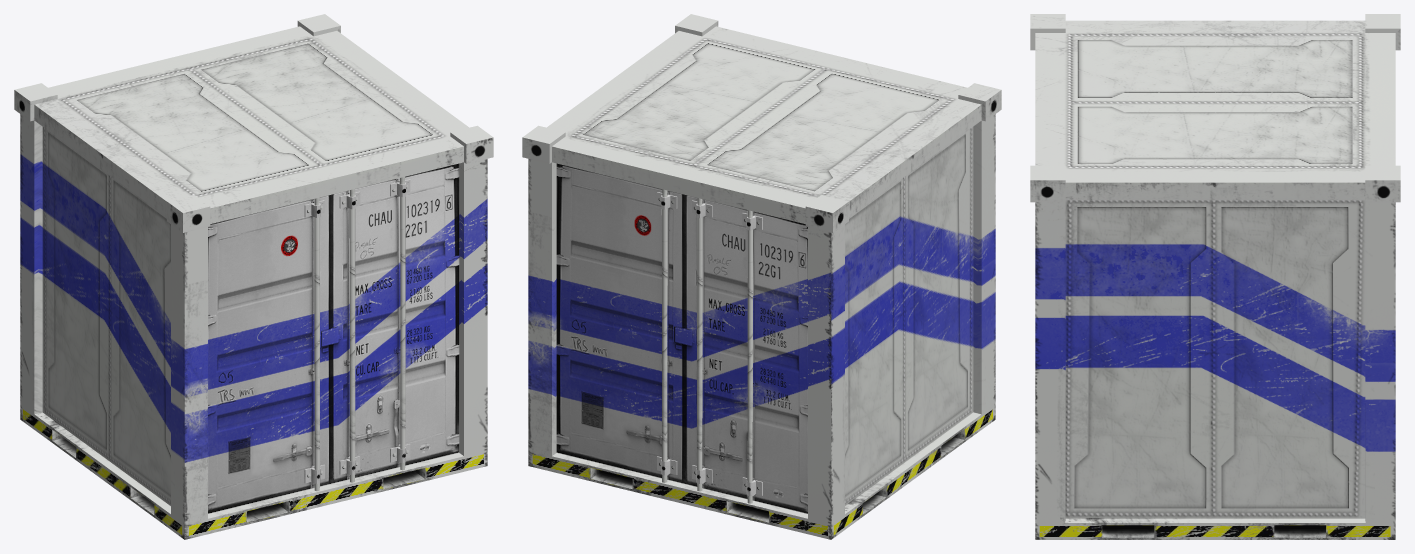
The model's file is quadcon_storage_container.dae.
3 renders of one model, left to right at view 1: azimuth 30°, elevation 25°; view 2: azimuth 150°, elevation 25°; view 3: azimuth 270°, elevation 25°, orthographic. The views are drawn at different scales.
Visible parts, largest first — view 1: Box676; view 2: Box676; view 3: Box676.
Boxes of the visible parts, left/top/right/bottom form: Box676: left=14, top=14, right=493, bottom=539; Box676: left=522, top=14, right=1001, bottom=539; Box676: left=1030, top=14, right=1400, bottom=539.
Bounding box in the file's own units: 2.68 × 2.52 × 2.72.
1 material, 1 textured.
